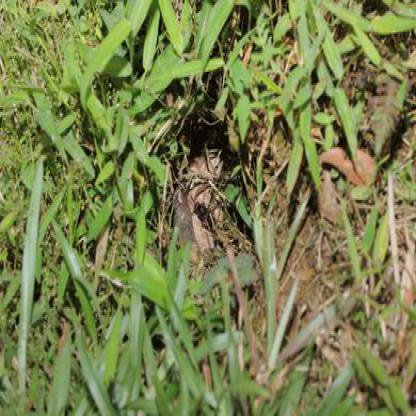Asian Hornet: (182, 189, 222, 240)
